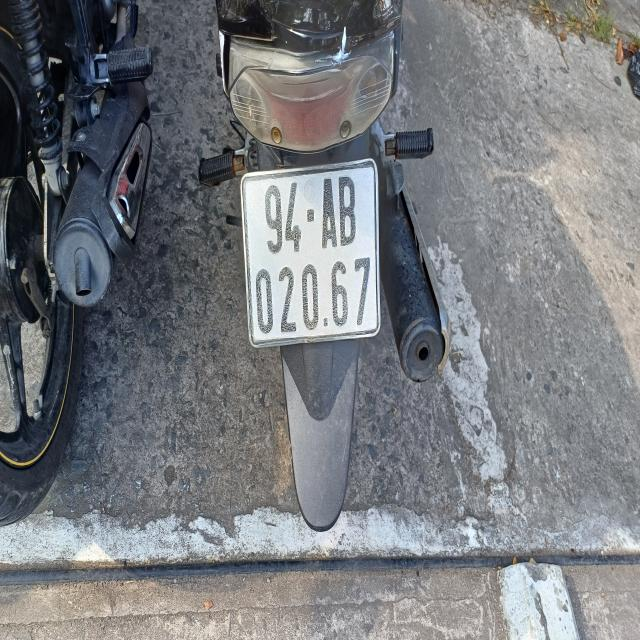0: (300, 262, 319, 331), (254, 268, 273, 334)
2: (277, 260, 297, 336)
4: (285, 181, 301, 252)
6: (330, 260, 350, 326)
7: (354, 252, 372, 330)
9: (265, 186, 283, 254)
A: (321, 176, 337, 253)
B: (338, 175, 357, 248)
